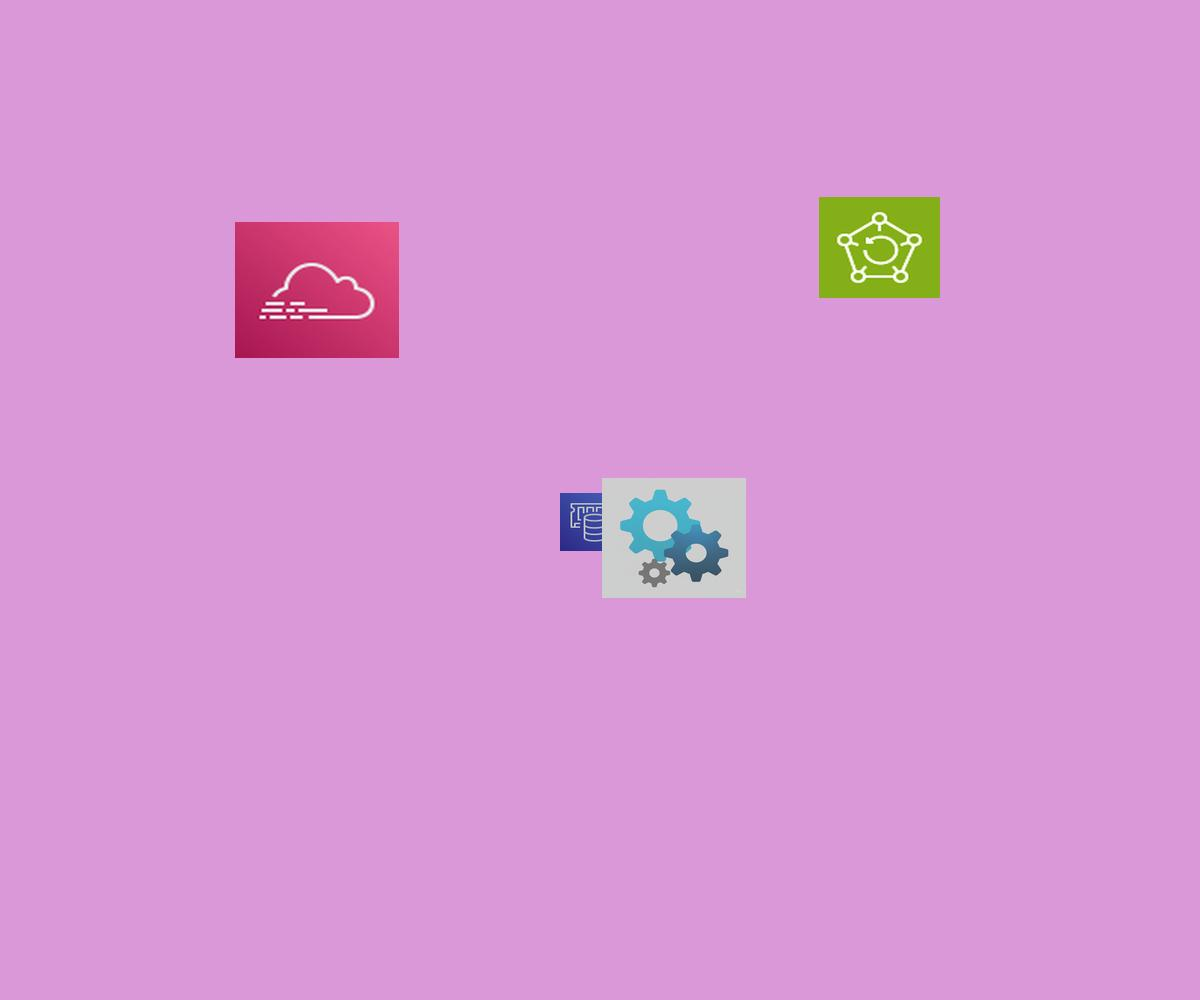AWS-Backup: (819, 197, 940, 298)
AWS-CloudTrail: (235, 222, 399, 358)
AWS-ElastiCache: (560, 493, 630, 551)
Azure_api: (602, 478, 746, 598)
